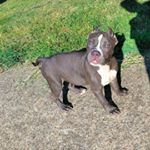puppy: (25, 25, 131, 118)
